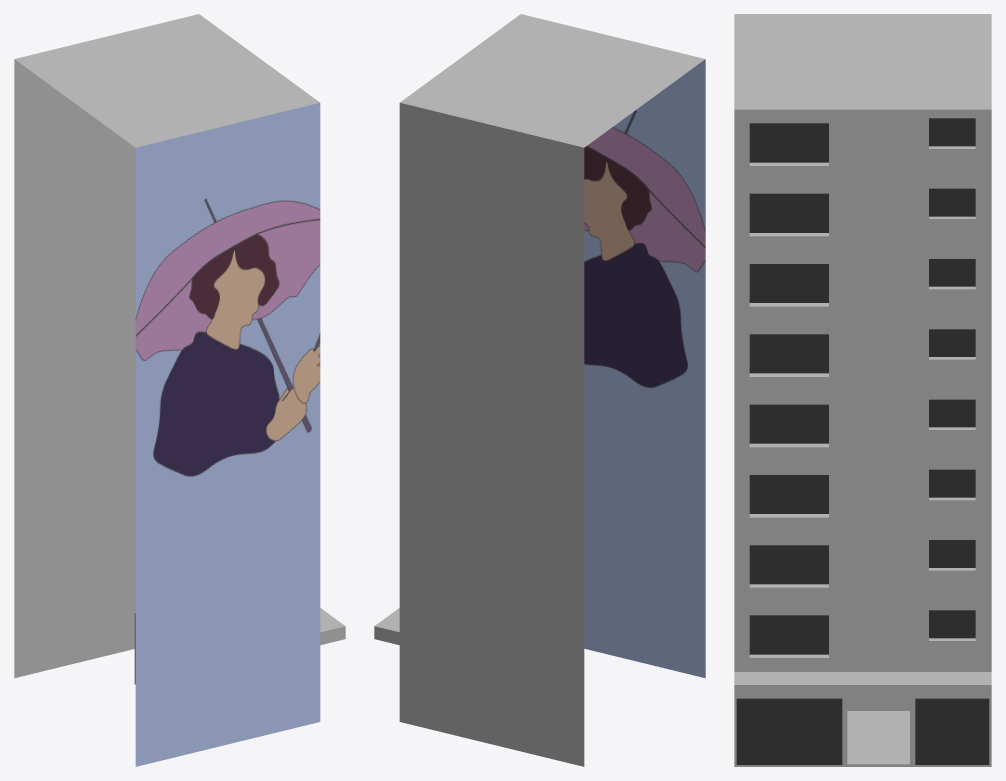
Rendered from galeria.glb.
The picture shows the model from 3 angles, left to right: view 1: azimuth 30°, elevation 25°; view 2: azimuth 150°, elevation 25°; view 3: azimuth 270°, elevation 25°; orthographic projection. The views are drawn at different scales.
Visible parts, largest first — view 1: Edificio; view 2: Edificio; view 3: Edificio.
Part boxes in pixels (x1,y1,x2,y2): Edificio: (14, 14, 345, 766); Edificio: (374, 14, 705, 766); Edificio: (734, 14, 991, 766).
Size of the model in its own units: 5 by 14.1 by 5.
3 materials, 1 textured.
